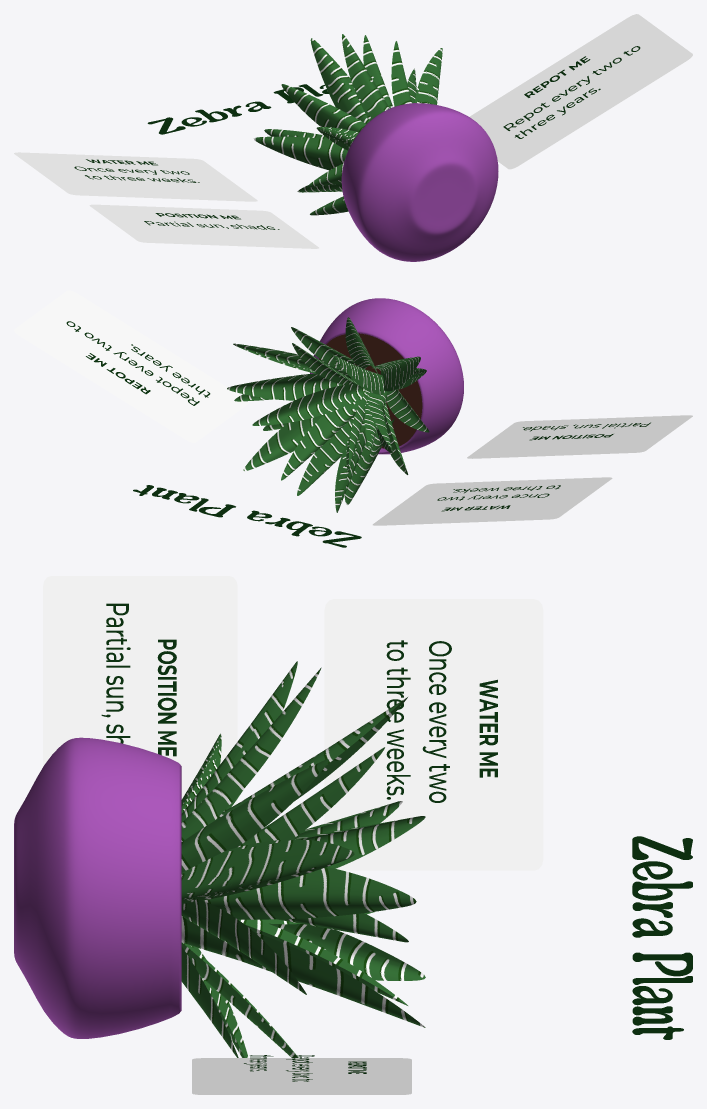
File: zebraplant2.glb
The picture shows the model from 3 angles, top to bottom: view 1: azimuth 30°, elevation 25°; view 2: azimuth 150°, elevation 25°; view 3: azimuth 270°, elevation 25°; orthographic projection. The views are drawn at different scales.
Parts seen in each view (by area): view 1: Vert.001, Plane, Plane.003, Plane.001, Subsurf_003, Group_002.001, Group_001, Subsurf_024, Text, Subsurf_014, Subsurf_004, Text.006 (+5 smaller); view 2: Plane, Vert.001, Plane.003, Plane.001, Subsurf_009, Circle.007, Group_004, Subsurf_010, Text, Group_005, Subsurf_023, Group_002 (+14 smaller); view 3: Plane.003, Vert.001, Plane.001, Plane, Group_004, Subsurf_014, Text, Subsurf_004, Group_005, Group_001, Group_002, Subsurf_027 (+15 smaller).
Part boxes in pixels (x1,y1,x2,y2): Vert.001: (341, 103, 498, 261); Plane: (469, 14, 692, 169); Plane.003: (14, 152, 257, 201); Plane.001: (89, 204, 318, 248); Subsurf_003: (254, 136, 347, 170); Group_002.001: (310, 38, 369, 123); Group_001: (342, 34, 389, 120); Subsurf_024: (281, 84, 366, 132); Text: (147, 84, 328, 134); Subsurf_014: (415, 48, 442, 104); Subsurf_004: (391, 41, 411, 106); Text.006: (503, 46, 640, 138); Plane: (14, 290, 248, 442); Vert.001: (310, 298, 463, 454); Plane.003: (372, 477, 612, 525); Plane.001: (467, 415, 692, 458); Subsurf_009: (252, 383, 365, 425); Circle.007: (319, 333, 422, 448); Group_004: (227, 371, 351, 400); Subsurf_010: (281, 390, 366, 480); Text: (133, 485, 361, 547); Group_005: (243, 414, 354, 471); Subsurf_023: (297, 418, 353, 495); Group_002: (335, 417, 366, 512); Plane.003: (324, 599, 543, 870); Vert.001: (14, 737, 181, 1038); Plane.001: (43, 576, 237, 806); Plane: (192, 1058, 411, 1094); Group_004: (203, 867, 416, 919); Subsurf_014: (181, 839, 354, 903); Text: (632, 836, 692, 1039); Subsurf_004: (181, 759, 328, 872); Group_005: (181, 916, 425, 1027); Group_001: (181, 667, 321, 841); Group_002: (182, 923, 425, 980); Subsurf_027: (181, 899, 306, 994).
Bounding box in the file's own units: 214 × 71.97 × 113.
6 materials, 1 textured.
